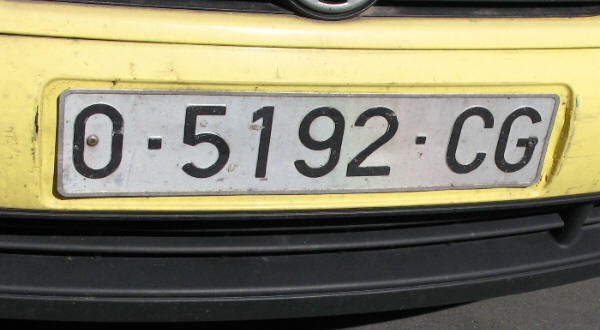license_plate: (56, 89, 561, 199)
